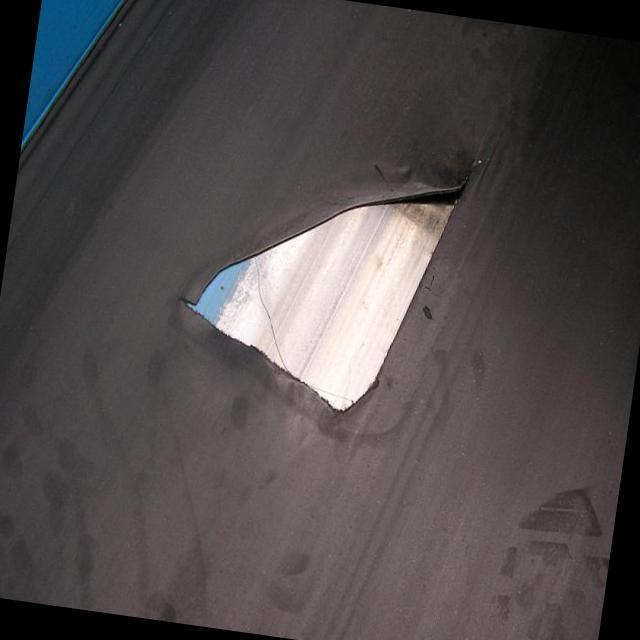Hole: (160, 175, 482, 424)
